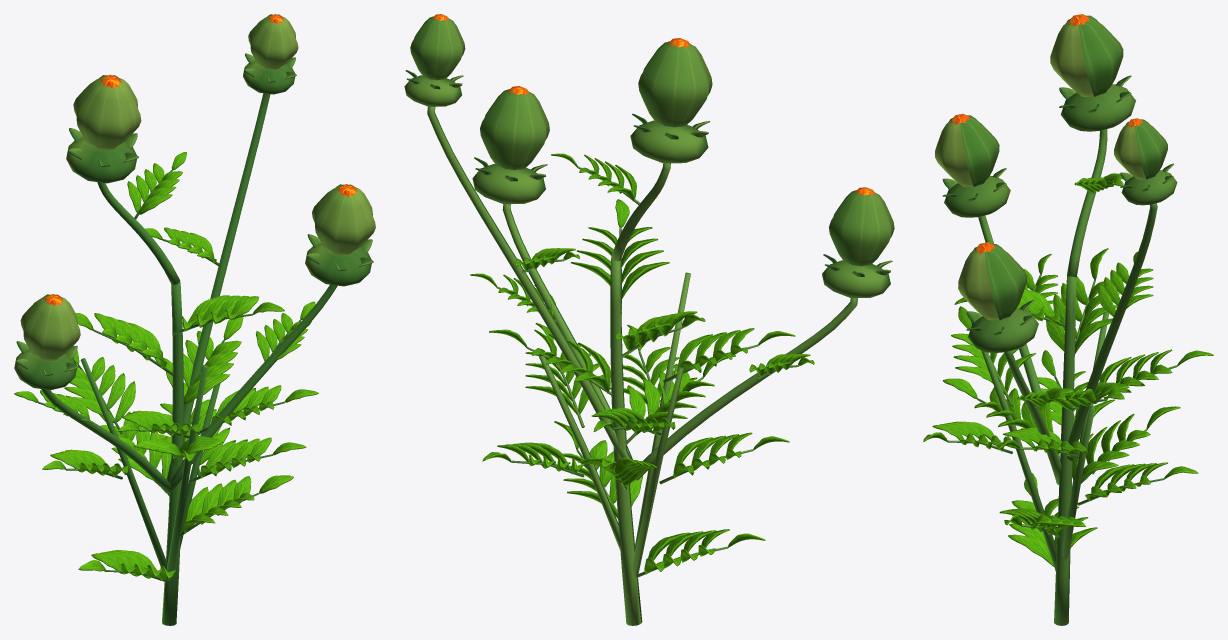
Rendered from NP_Marigold_BudForming.fbx.
3 renders of one model, left to right at view 1: azimuth 30°, elevation 25°; view 2: azimuth 150°, elevation 25°; view 3: azimuth 270°, elevation 25°, orthographic. The views are drawn at different scales.
Parts seen in each view (by area): view 1: NP_Marigold_BudForming; view 2: NP_Marigold_BudForming; view 3: NP_Marigold_BudForming.
Part boxes in pixels (left/top/right/bottom): NP_Marigold_BudForming: left=14, top=14, right=375, bottom=625; NP_Marigold_BudForming: left=404, top=14, right=894, bottom=625; NP_Marigold_BudForming: left=923, top=14, right=1213, bottom=625.
Bounding box in the file's own units: 52.03 × 74.47 × 33.67.
